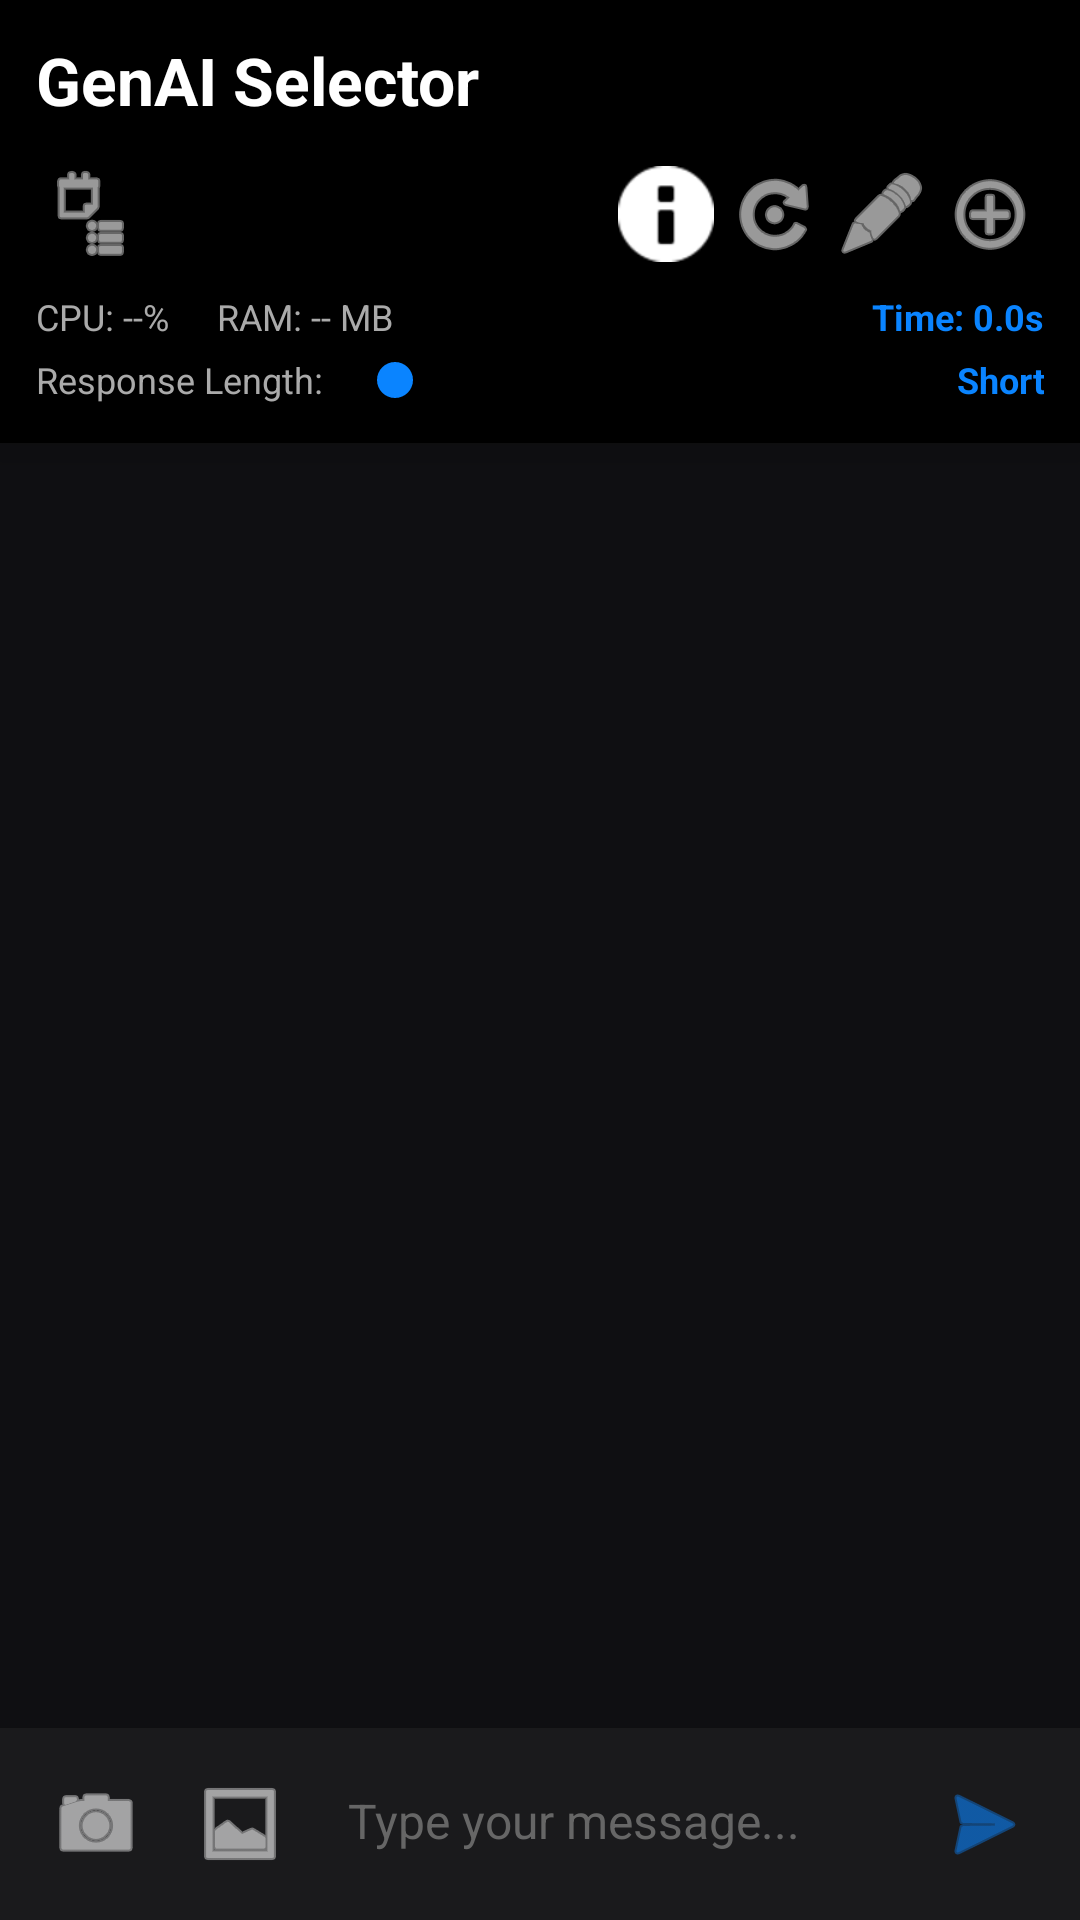

Icon click points for this 1080*1920 phone screenshot, format (x,y):
Add image from gallery: (240,1824)
Details: (666,214)
New Chat: (990,214)
Refresh: (774,214)
Rename: (881,213)
Send: (985,1824)
Take photo: (96,1822)
